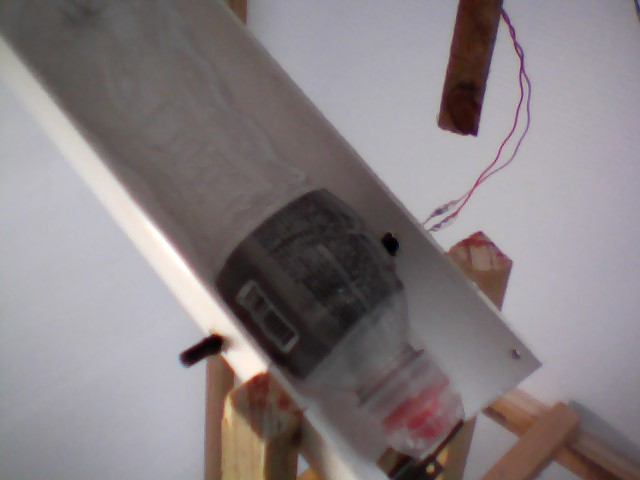plastico: (23, 1, 472, 461)
